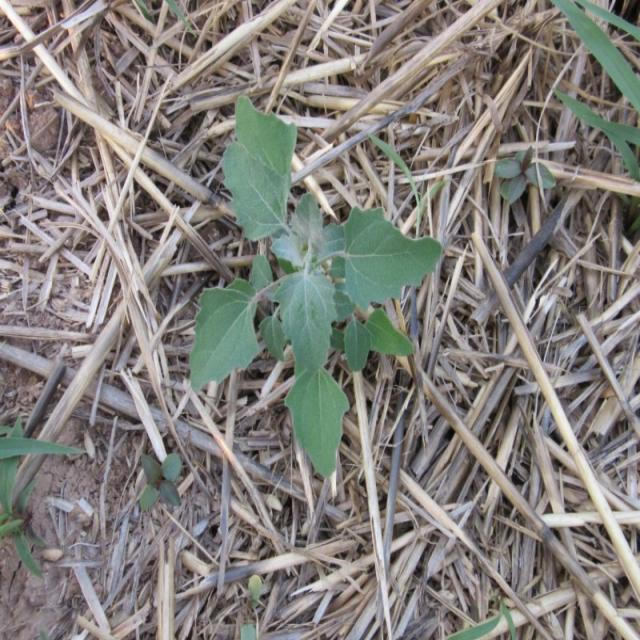ca: (193, 92, 441, 479)
